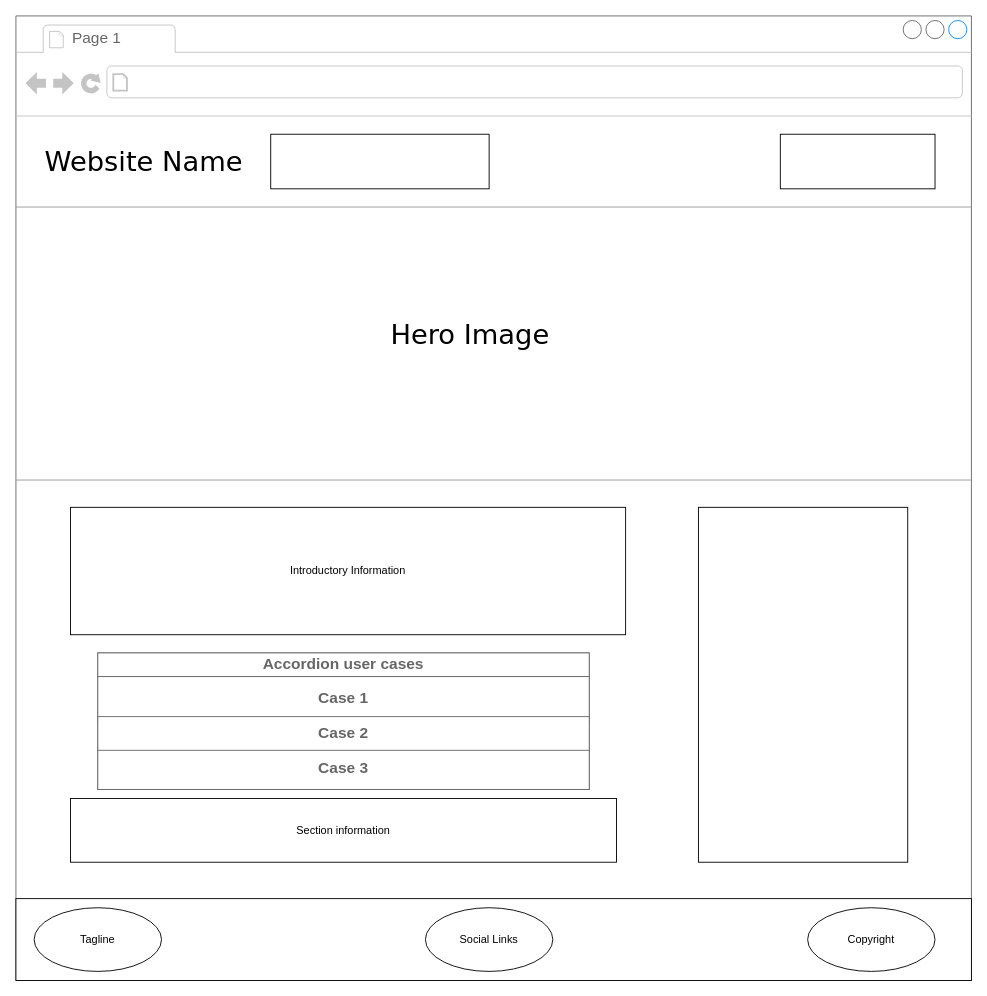
The diagram is 987 pixels wide and 996 high, and some of its shapes have lost their labels. Here are the shapes that lost their labels. From the top down, the centre of each, then its label:
(247,82): https://www.default.com
(379,161): Navigation Links
(857,161): Login Status
(803,684): Recent Blog Posts
